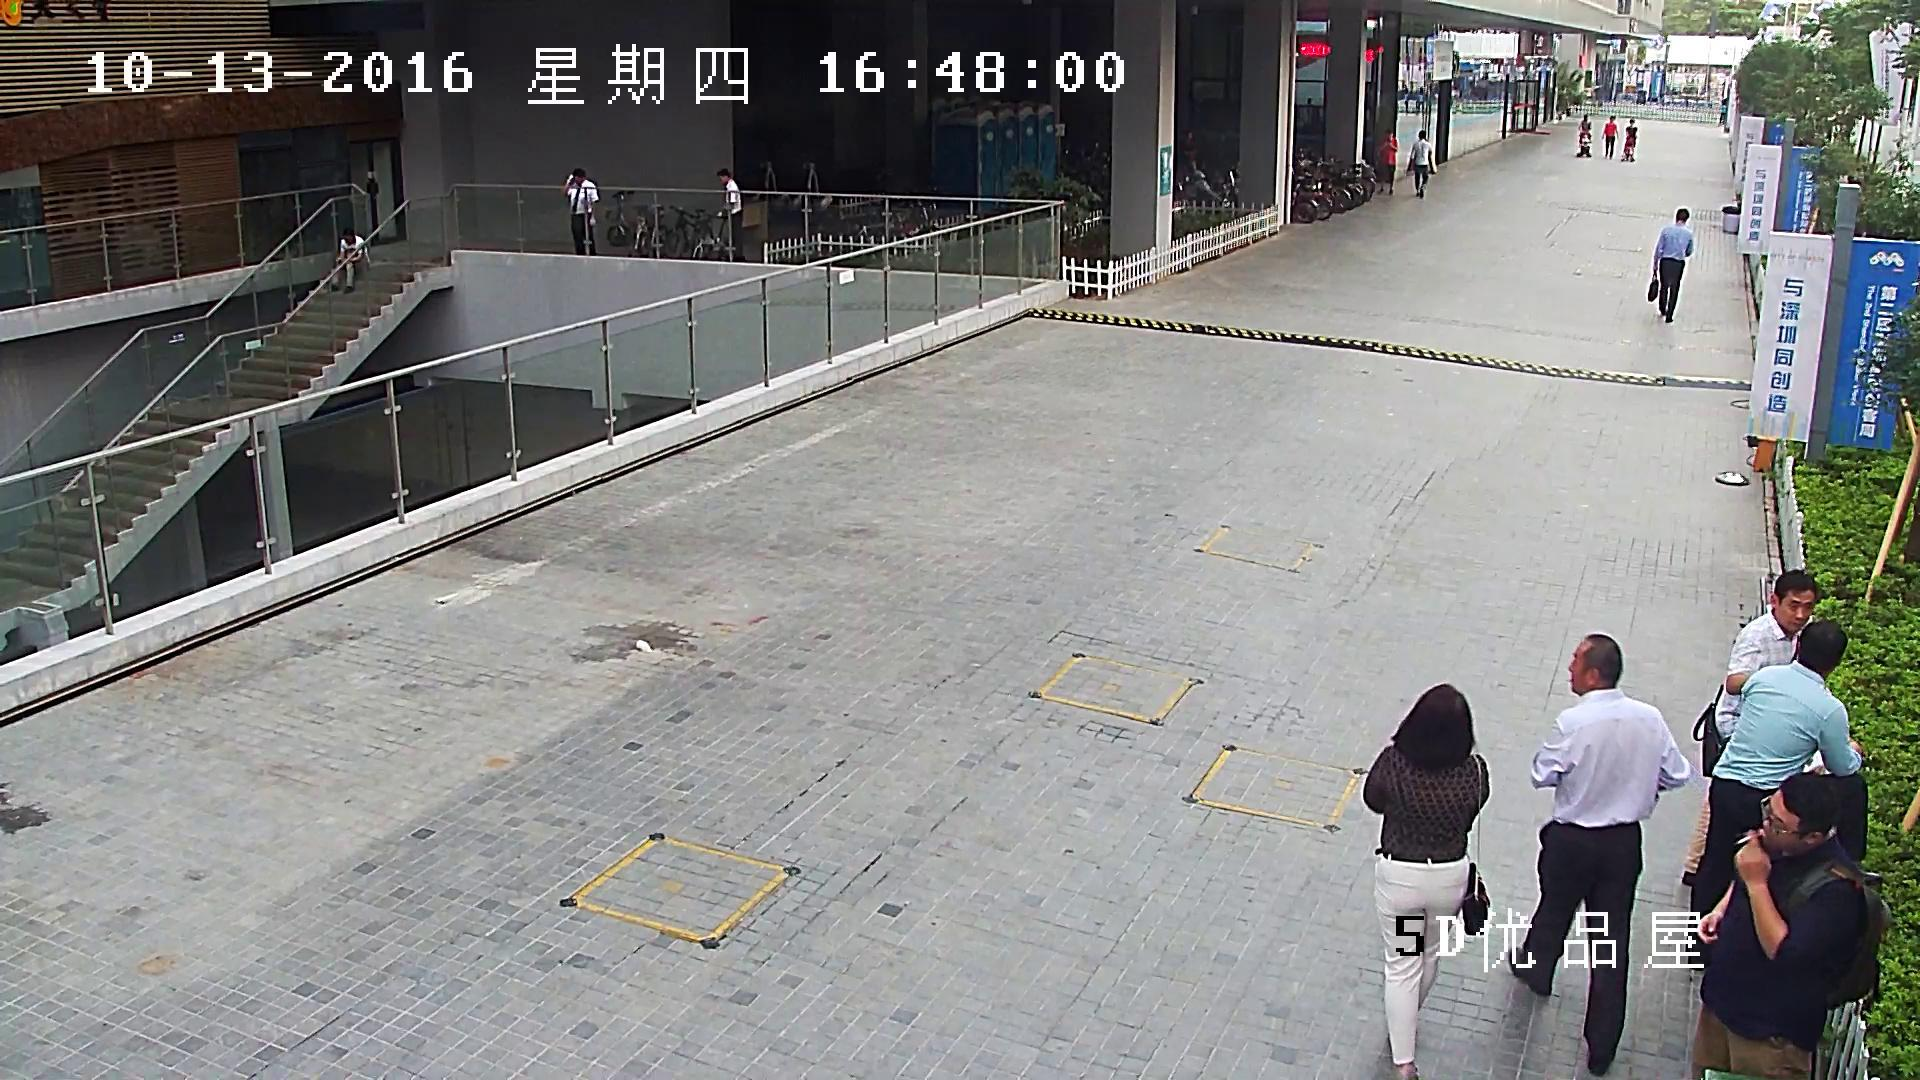person: (1508, 633, 1689, 1075), (1685, 619, 1884, 970), (1691, 770, 1889, 1080), (1362, 681, 1490, 1080), (1681, 569, 1825, 887), (1648, 208, 1694, 322), (562, 168, 599, 256), (330, 227, 370, 293), (716, 167, 742, 258), (1406, 130, 1436, 199), (1375, 127, 1397, 195), (1600, 114, 1618, 159), (1621, 118, 1636, 161), (1576, 114, 1592, 157), (1625, 118, 1636, 153), (1577, 114, 1591, 132)
